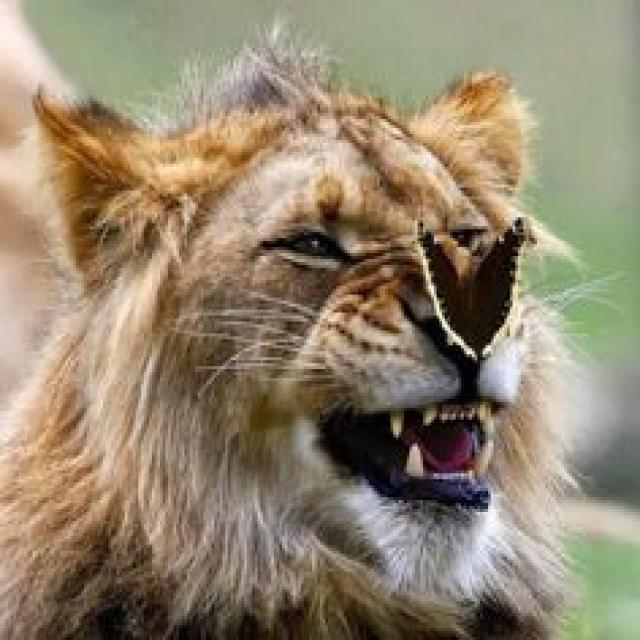Carnivorous: (0, 30, 586, 640)
